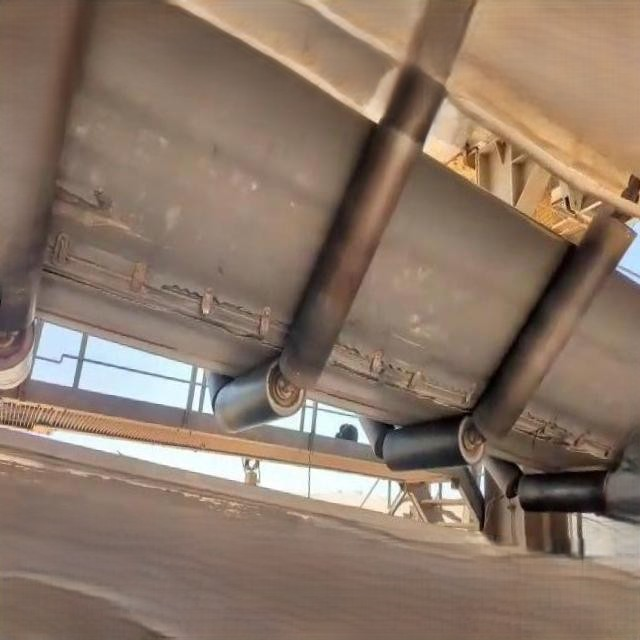Tear: (39, 222, 292, 355), (325, 330, 483, 421), (512, 410, 618, 468)
Wear: (46, 169, 155, 244)
